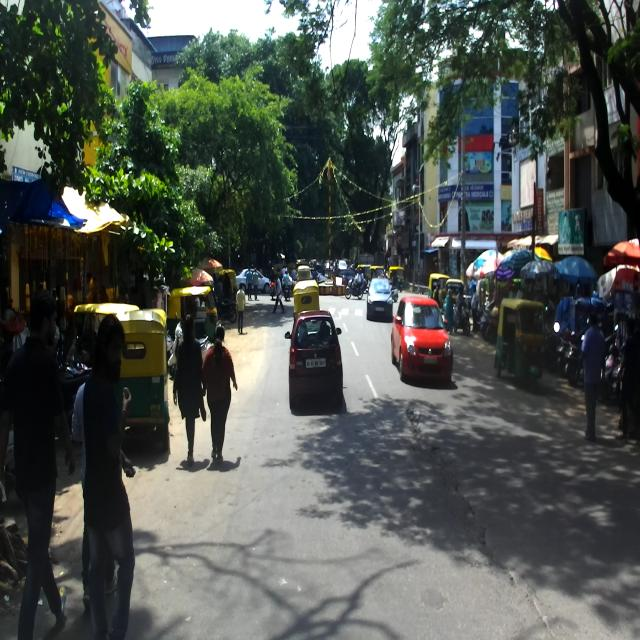car ahead at: (280, 317, 348, 410), (392, 290, 454, 381)
